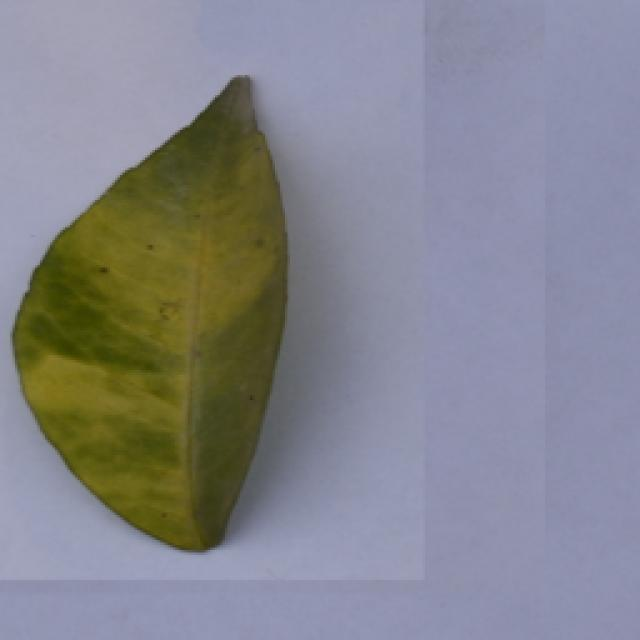blackspot: (11, 65, 329, 548)
